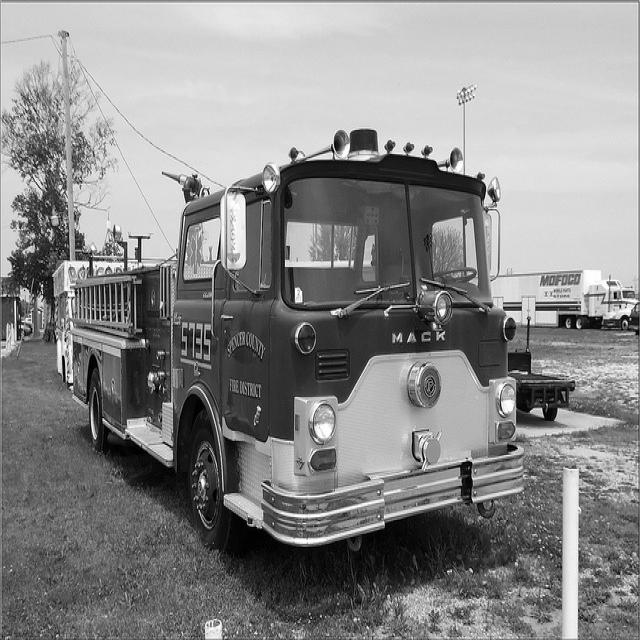pole: (59, 27, 76, 258)
truck: (48, 120, 530, 557), (491, 266, 637, 332), (503, 348, 573, 422)
